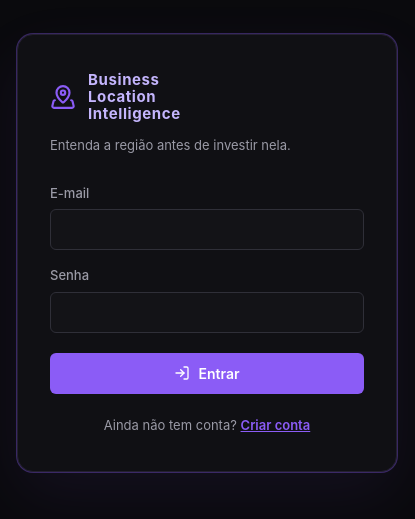
Test case: LoginPage › shows a Portuguese message for INVALID_CREDENTIALS and never the raw code or server text
Type "maria@example.com" into the field labelled "E-mail" at (207, 230), box [50,209,364,250]
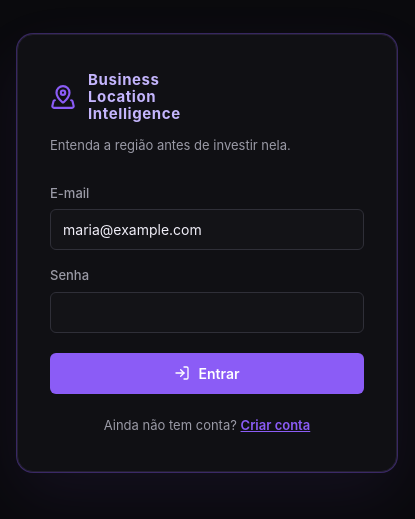
Type "alguma-senha-longa" into the password field labelled "Senha" at (207, 312), box [50,292,364,333]
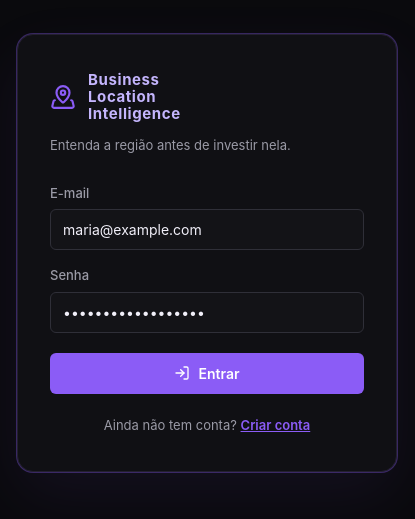
Click the button "Entrar" at (207, 373), box [50,353,364,394]
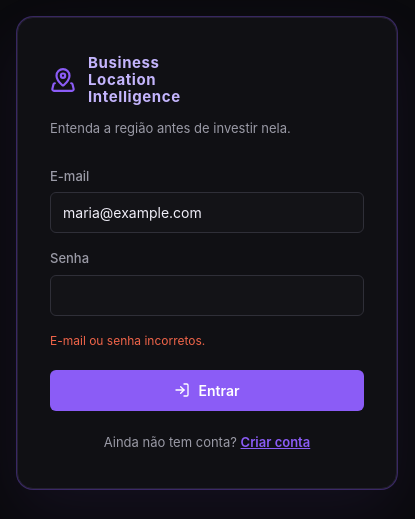
Now the message reads "E-mail ou senha incorretos.", box [50,333,205,348]
